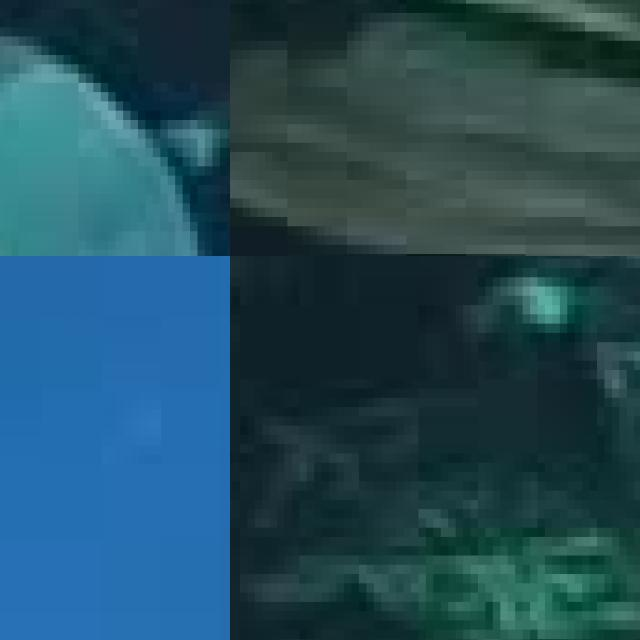fish: (230, 0, 640, 256), (0, 0, 230, 256)
